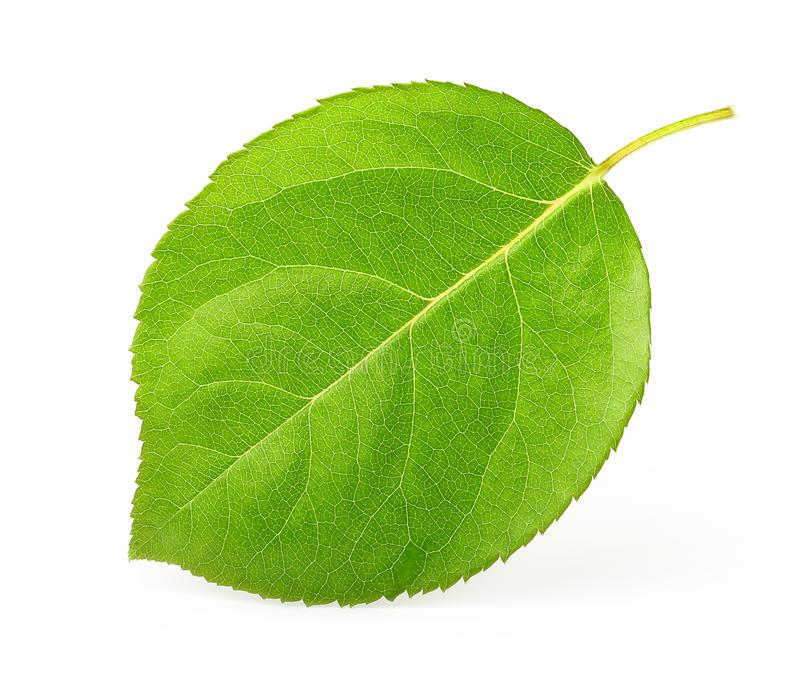Apple leaf: (124, 72, 661, 637)
